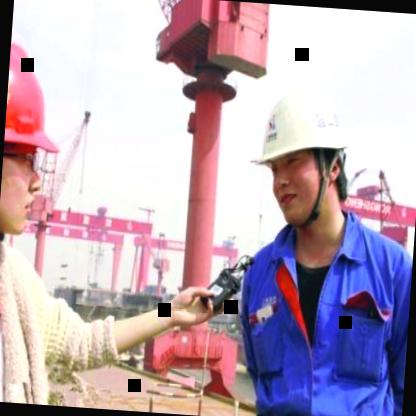helmet: (244, 66, 362, 246), (0, 21, 74, 265)
